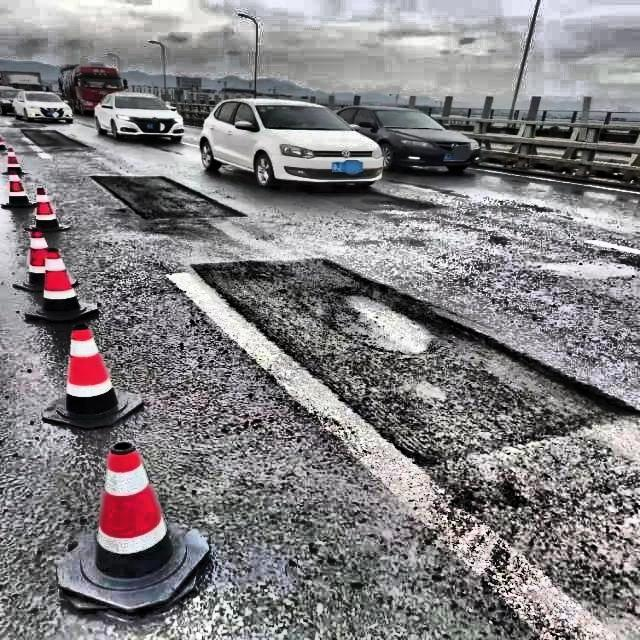buraco: (200, 258, 616, 466), (100, 170, 226, 224), (356, 200, 444, 214)
